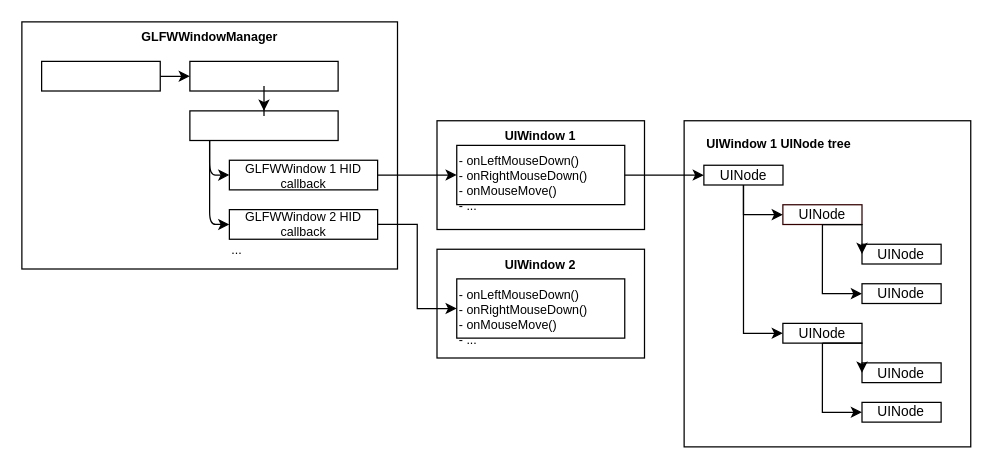
The diagram is 994 pixels wide and 469 high, and some of its shapes have lost their labels. The centre of each missing label's shape, as x and y in pixels:
"glfwWaitEvents()" belongs at point 100,75.
"global HID callbacks" belongs at point 263,75.
"iterate GLFWWindows" belongs at point 263,125.
